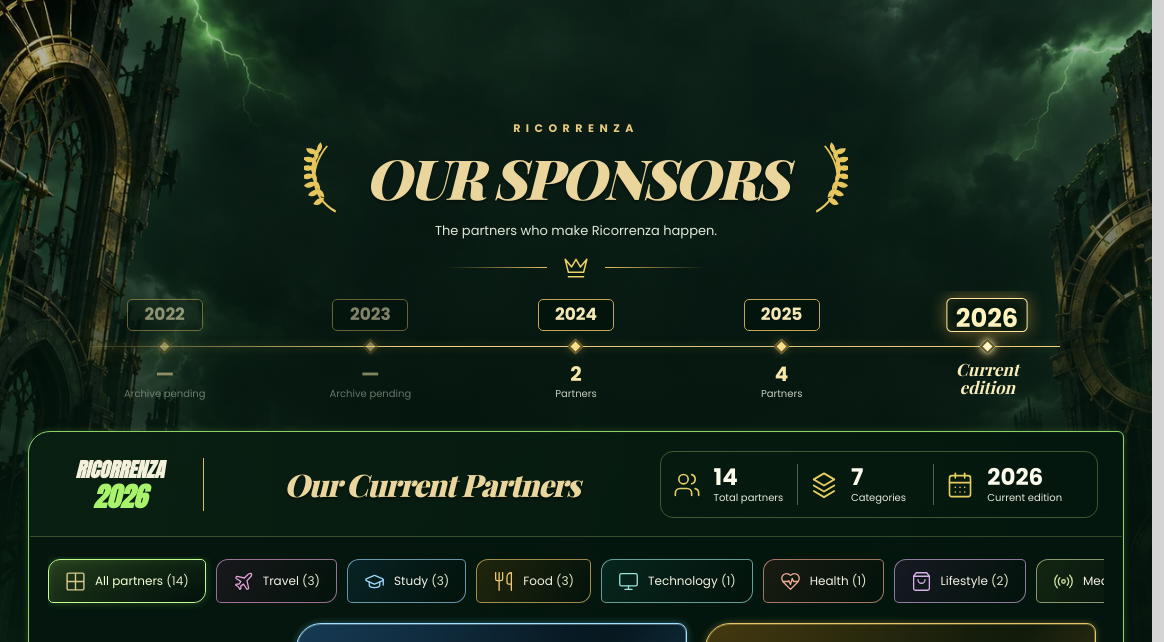
Test: filters by industry while showing title partners and real category counts
Expected: the tab "All partners (14)" is shown, x1=48 y1=559 x2=206 y2=603
Click the tab "Food (3)".
click(534, 581)  # box x1=476 y1=559 x2=591 y2=603
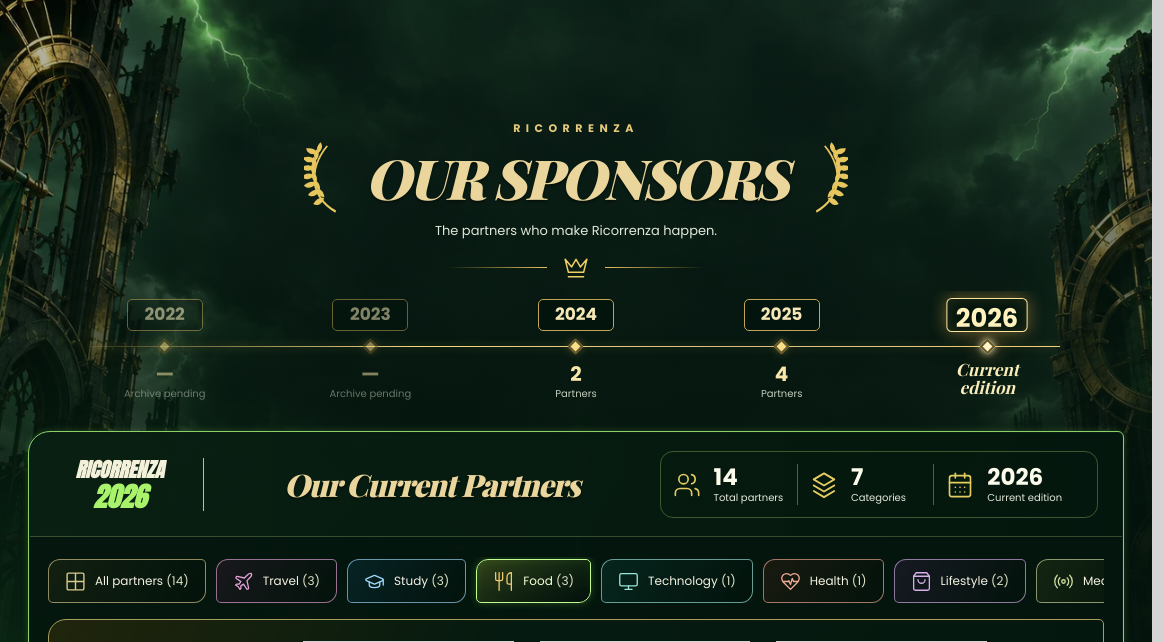
Expected: the tab "Food (3)" is selected, x1=476 y1=559 x2=591 y2=603
